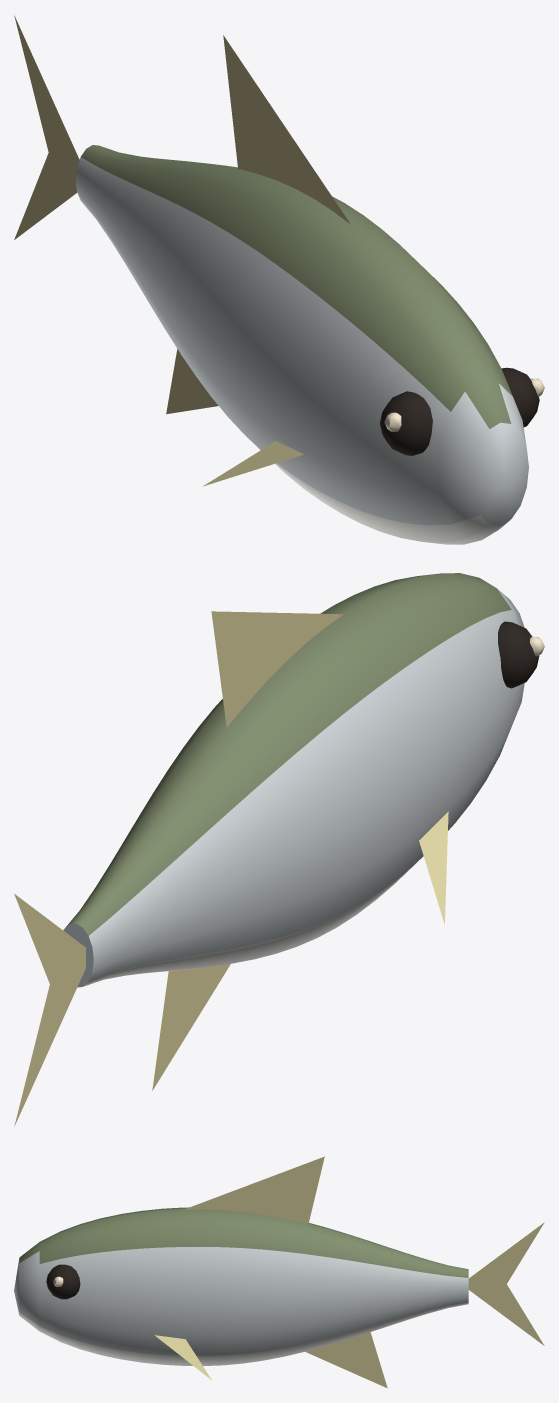
Rendered from dace.fbx.
3 renders of one model, top to bottom at view 1: azimuth 30°, elevation 25°; view 2: azimuth 150°, elevation 25°; view 3: azimuth 270°, elevation 25°, orthographic. The views are drawn at different scales.
Visible parts, largest first — view 1: Fish_dace_EXP; view 2: Fish_dace_EXP; view 3: Fish_dace_EXP.
Part boxes in pixels (left/top/right/bottom): Fish_dace_EXP: left=14, top=15, right=544, bottom=544; Fish_dace_EXP: left=14, top=573, right=544, bottom=1126; Fish_dace_EXP: left=14, top=1156, right=544, bottom=1388.
Bounding box in the file's own units: 0.1047 × 0.171 × 0.3546.
